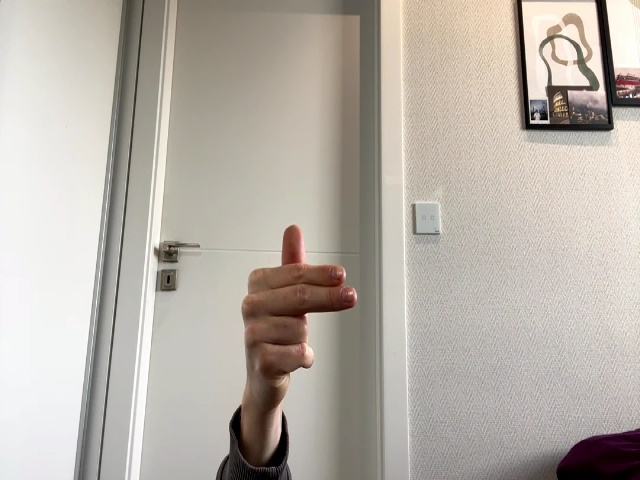N: (243, 225, 357, 379)
